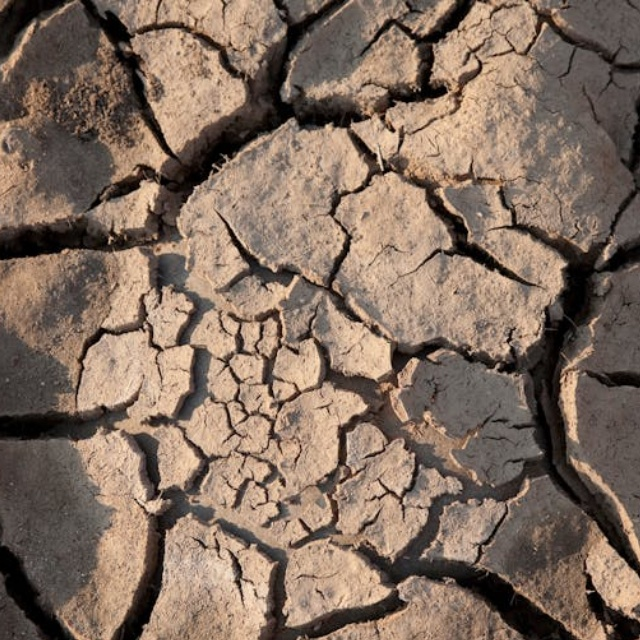深大裂缝: (504, 167, 624, 587)
网状裂隙: (118, 216, 566, 623), (154, 142, 485, 438)
